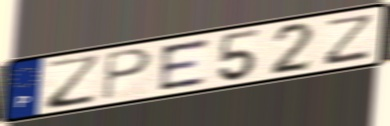2: (268, 21, 319, 76)
5: (216, 27, 261, 85)
E: (158, 36, 211, 93)
P: (101, 47, 154, 103)
Z: (45, 51, 103, 112), (320, 11, 377, 68)
